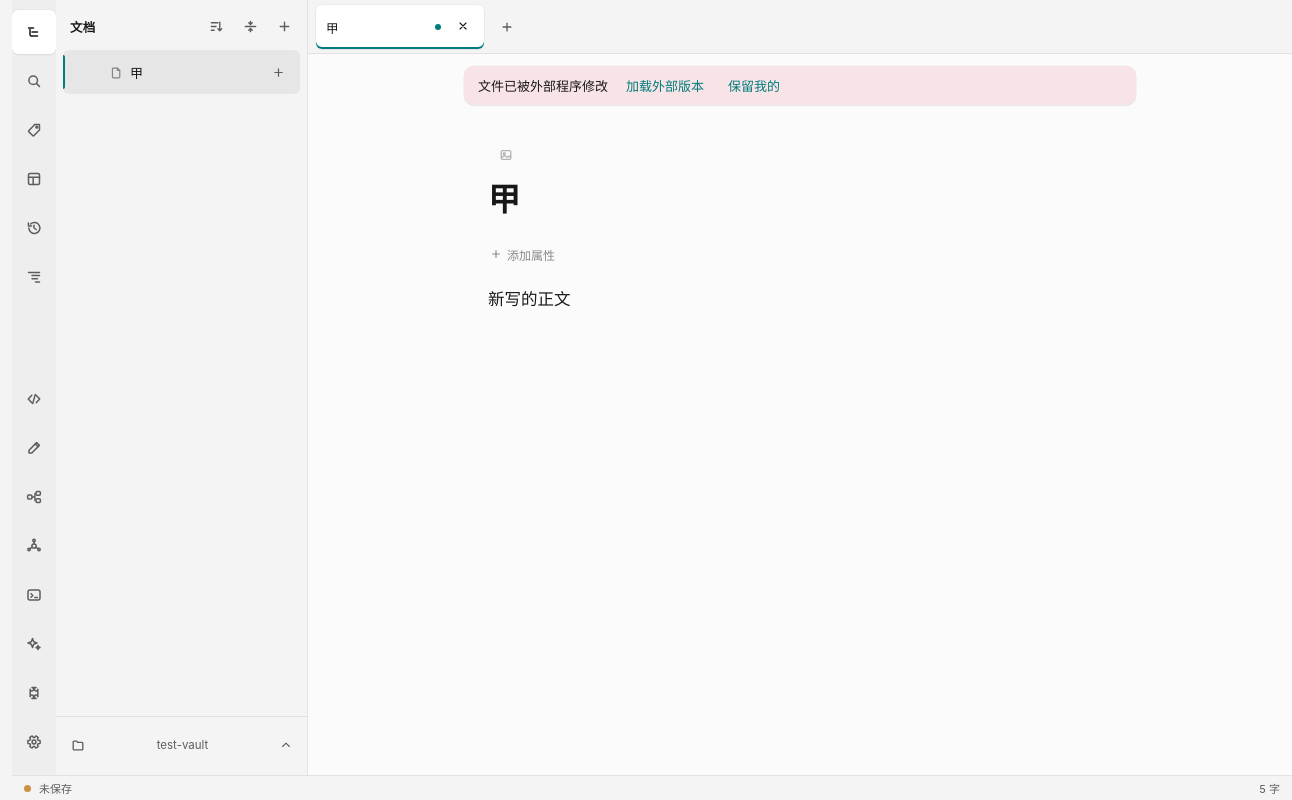
it: 外部修改提示 › 按「保留我的」之后提示要真的消失，不能立刻回来
This screenshot has width=1292, height=800.
Expected: the element with class "banner" is shown, [464,66,1136,105]
Click the button "保留我的": (754, 86) [722,75,786,96]
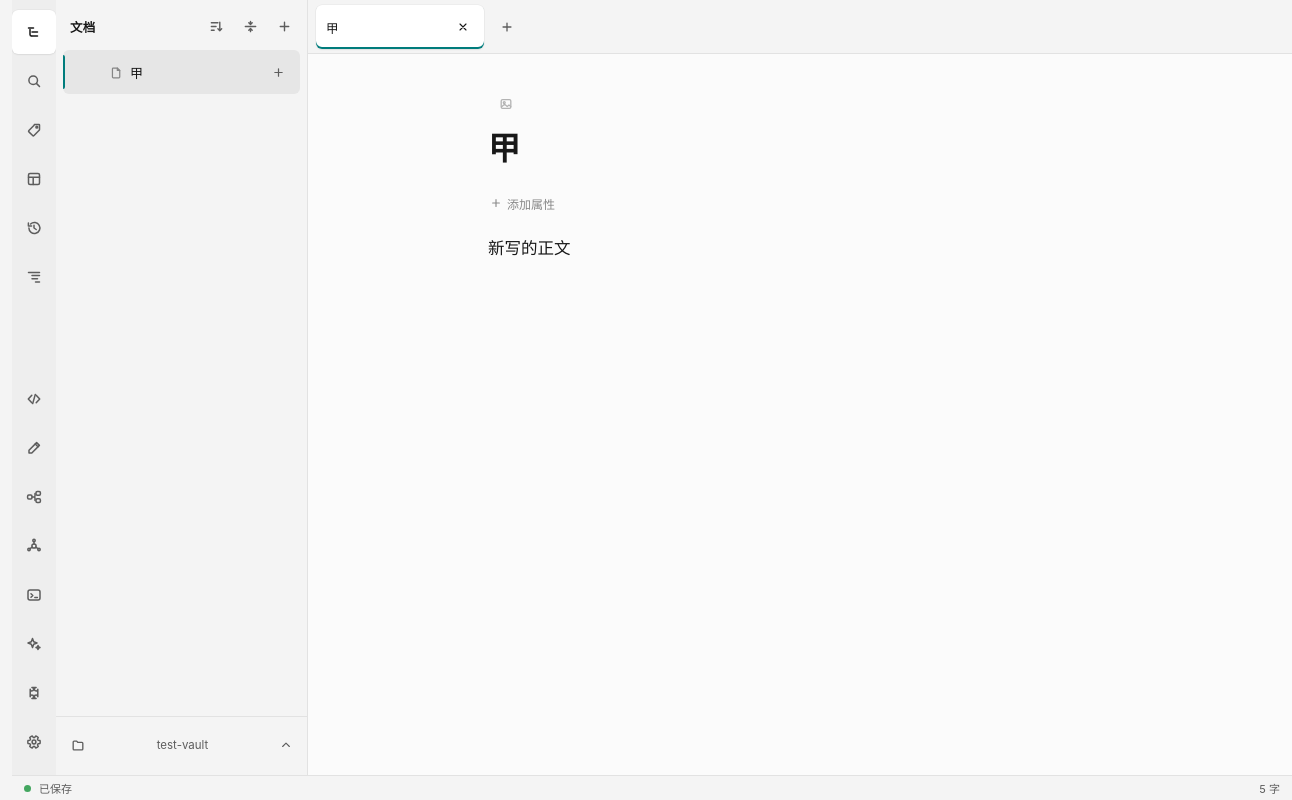
Expected: the element with class "banner" is gone
